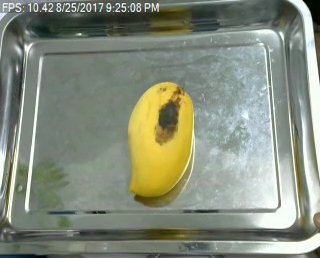Mango: (128, 81, 193, 197)
